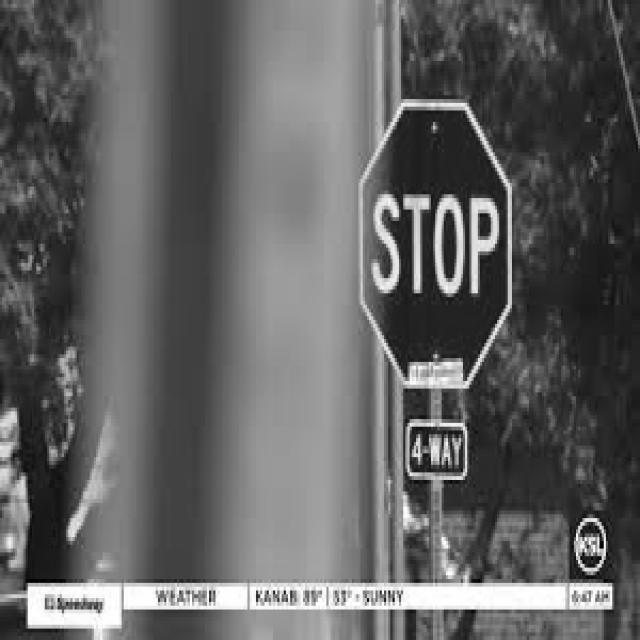stop sign: (358, 103, 514, 480)
